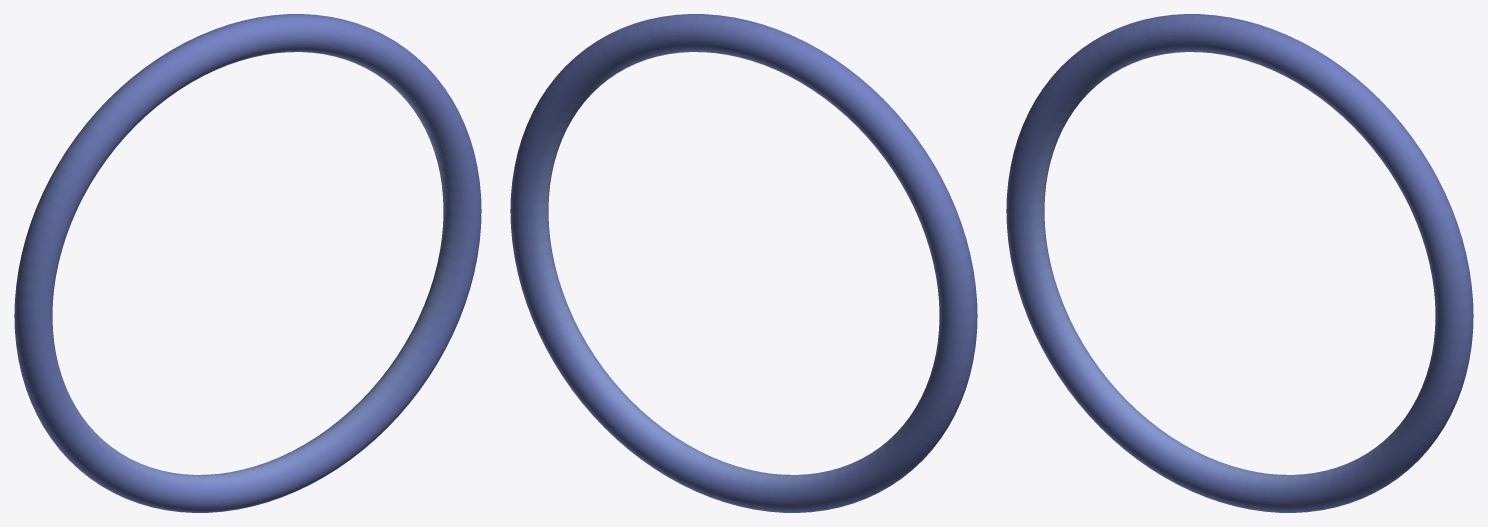
3 renders of one model, left to right at view 1: azimuth 30°, elevation 25°; view 2: azimuth 150°, elevation 25°; view 3: azimuth 330°, elevation 25°, orthographic.
Visible parts, largest first — view 1: world; view 2: world; view 3: world.
Part boxes in pixels (left/top/right/bottom): world: left=14, top=14, right=481, bottom=512; world: left=510, top=14, right=977, bottom=512; world: left=1006, top=14, right=1473, bottom=512.
Size of the model in its own units: 28 by 28 by 2.
